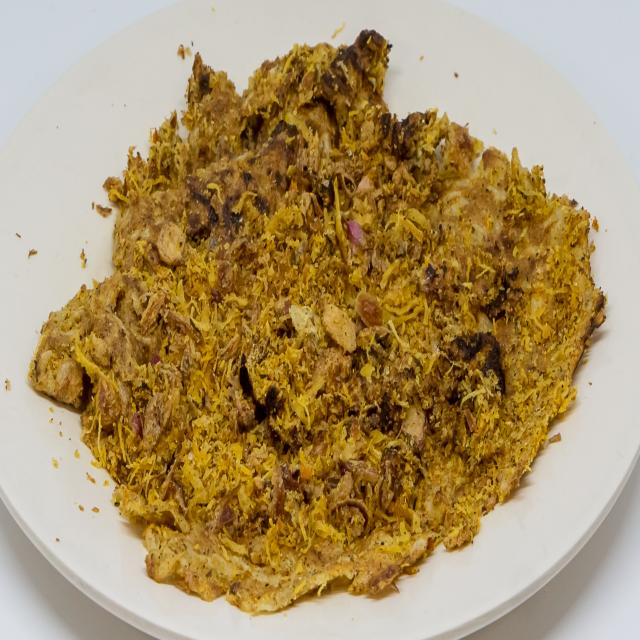Kerak-Telor: (29, 13, 611, 624)
